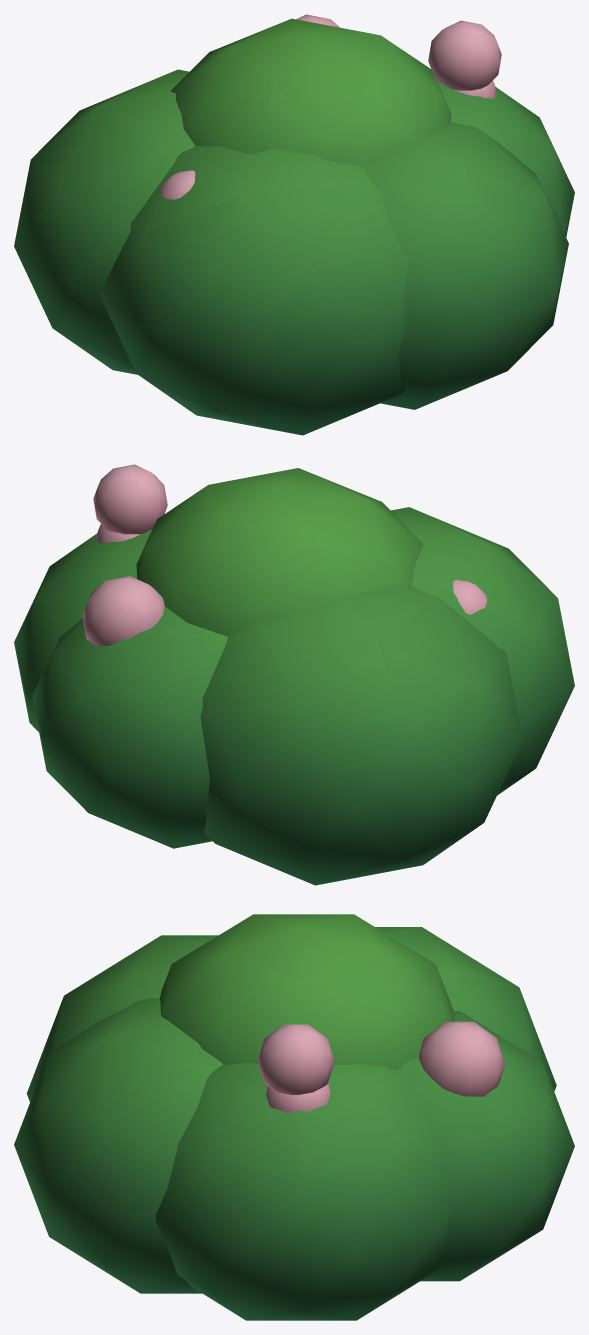
The model's file is bush_b.glb.
3 renders of one model, top to bottom at view 1: azimuth 30°, elevation 25°; view 2: azimuth 150°, elevation 25°; view 3: azimuth 270°, elevation 25°, orthographic. The views are drawn at different scales.
Parts seen in each view (by area): view 1: Bush, Blooms; view 2: Bush, Blooms; view 3: Bush, Blooms.
Boxes of the visible parts, <box> form: Bush: <box>14,18,574,435</box>; Blooms: <box>159,14,501,199</box>; Bush: <box>14,468,574,885</box>; Blooms: <box>82,464,487,646</box>; Bush: <box>14,914,574,1320</box>; Blooms: <box>257,1021,505,1113</box>.
Bounding box in the file's own units: 1.05 × 0.7025 × 1.03.
